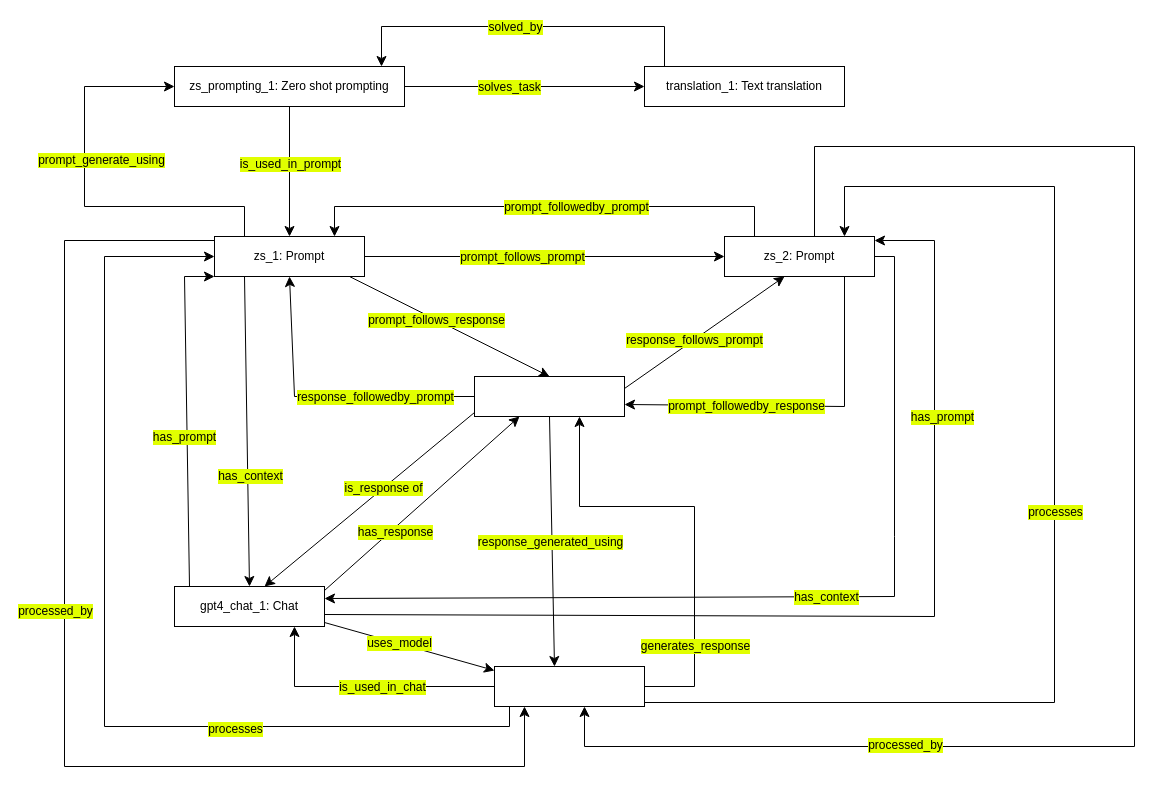
Image size: 1162x794. Some labels were removed from this diagram. Here are the shapes that lost their labels. From the top down, the centre of each, then its label:
At (549,396): "rs_1: Response".
At (569,686): "GPT-4: GPT".
